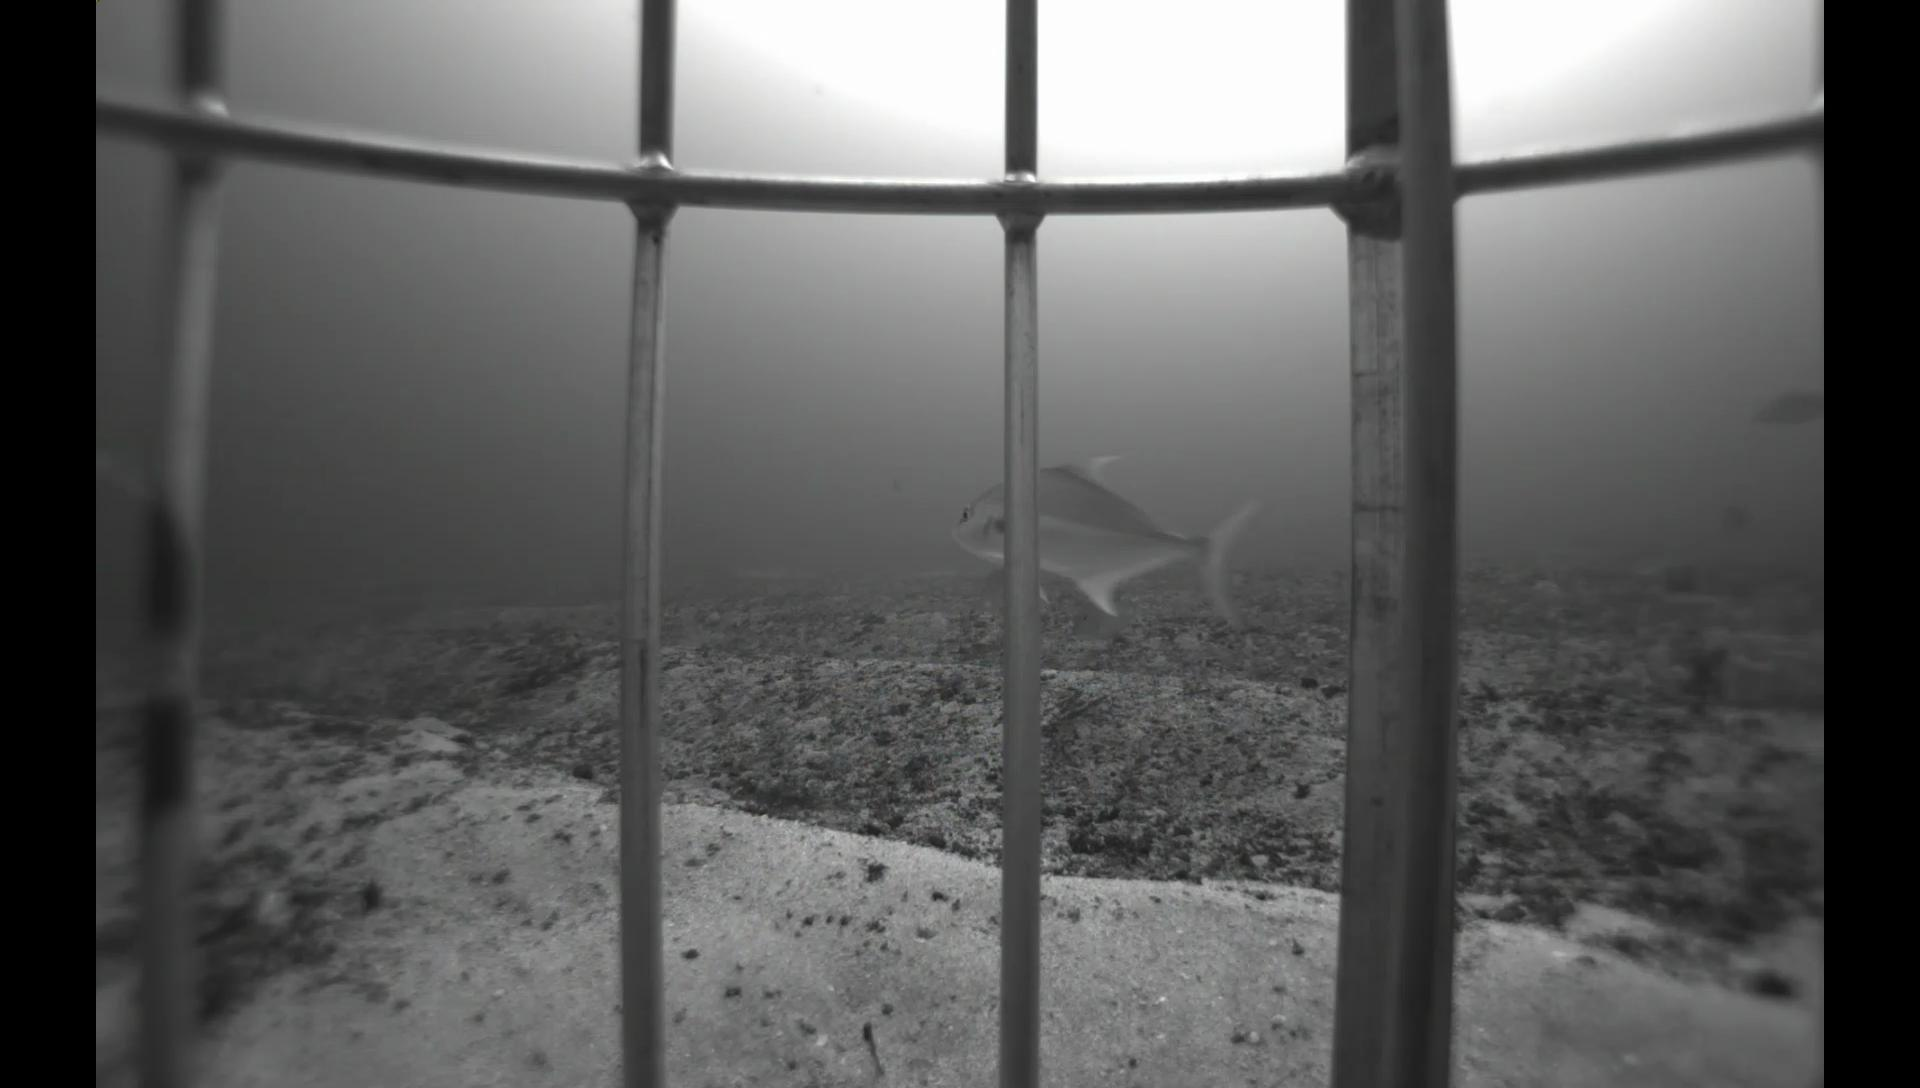CALAMUS-170210600: (1067, 596, 1162, 644), (971, 564, 1006, 615)
EPINEPHELUSMORIO-170021211: (1693, 492, 1775, 543)
PAGRUSPAGRUS-170212302: (98, 425, 157, 510)
RHOMBOPLITESAURORUBENS-170152001: (1735, 382, 1825, 433), (882, 475, 913, 500)
SERIOLARIVOLIANA-170113105: (934, 443, 1266, 638)
